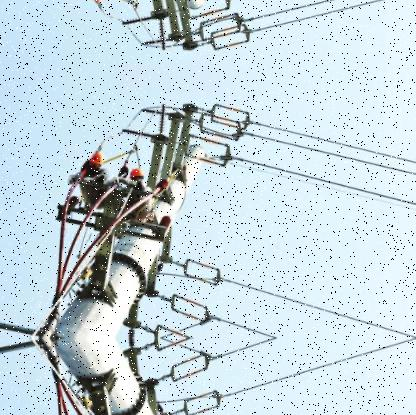helmet: (127, 164, 145, 186), (85, 152, 104, 171)
